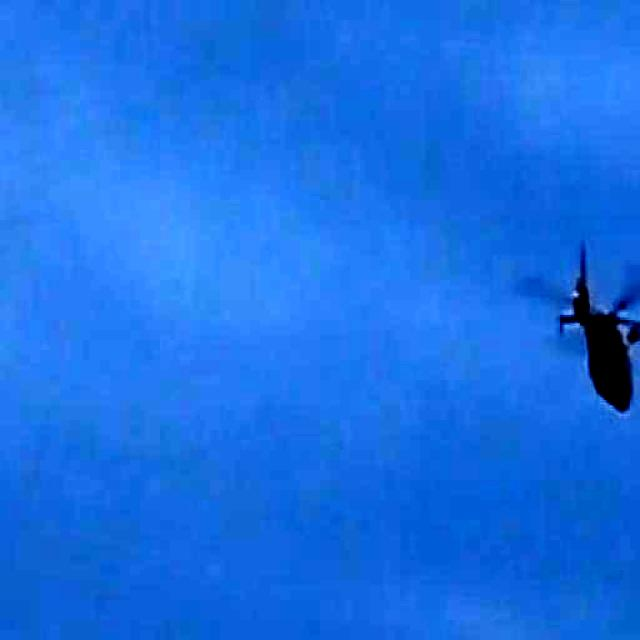drone: (534, 235, 640, 426)
